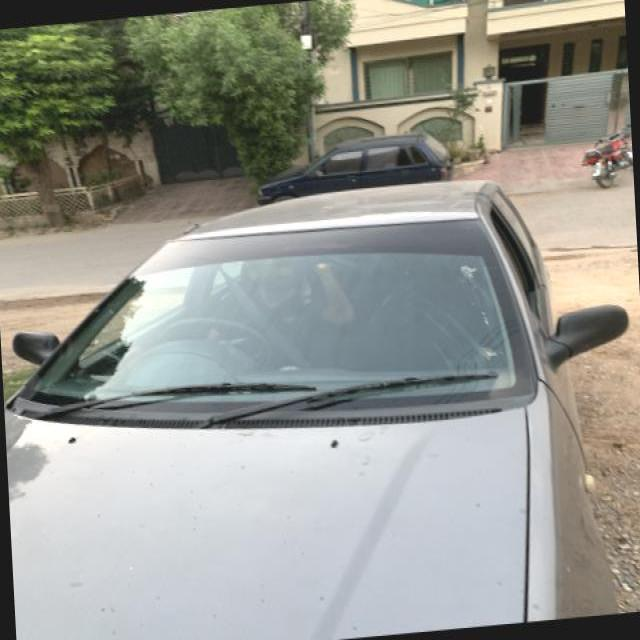seatbelt: (215, 274, 360, 384)
